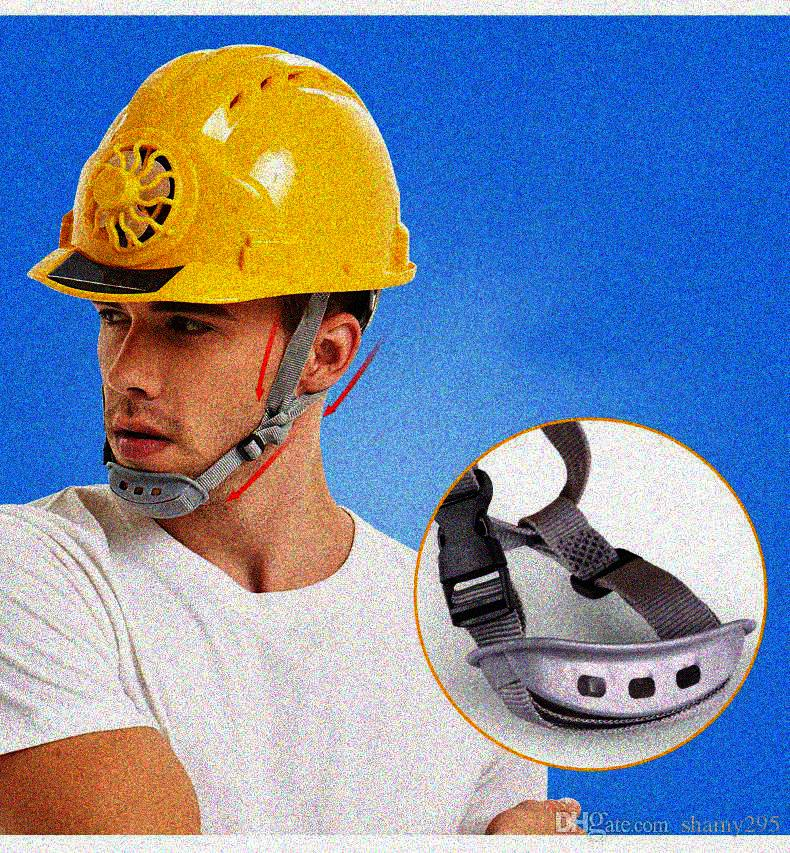helmet: (24, 38, 417, 496)
